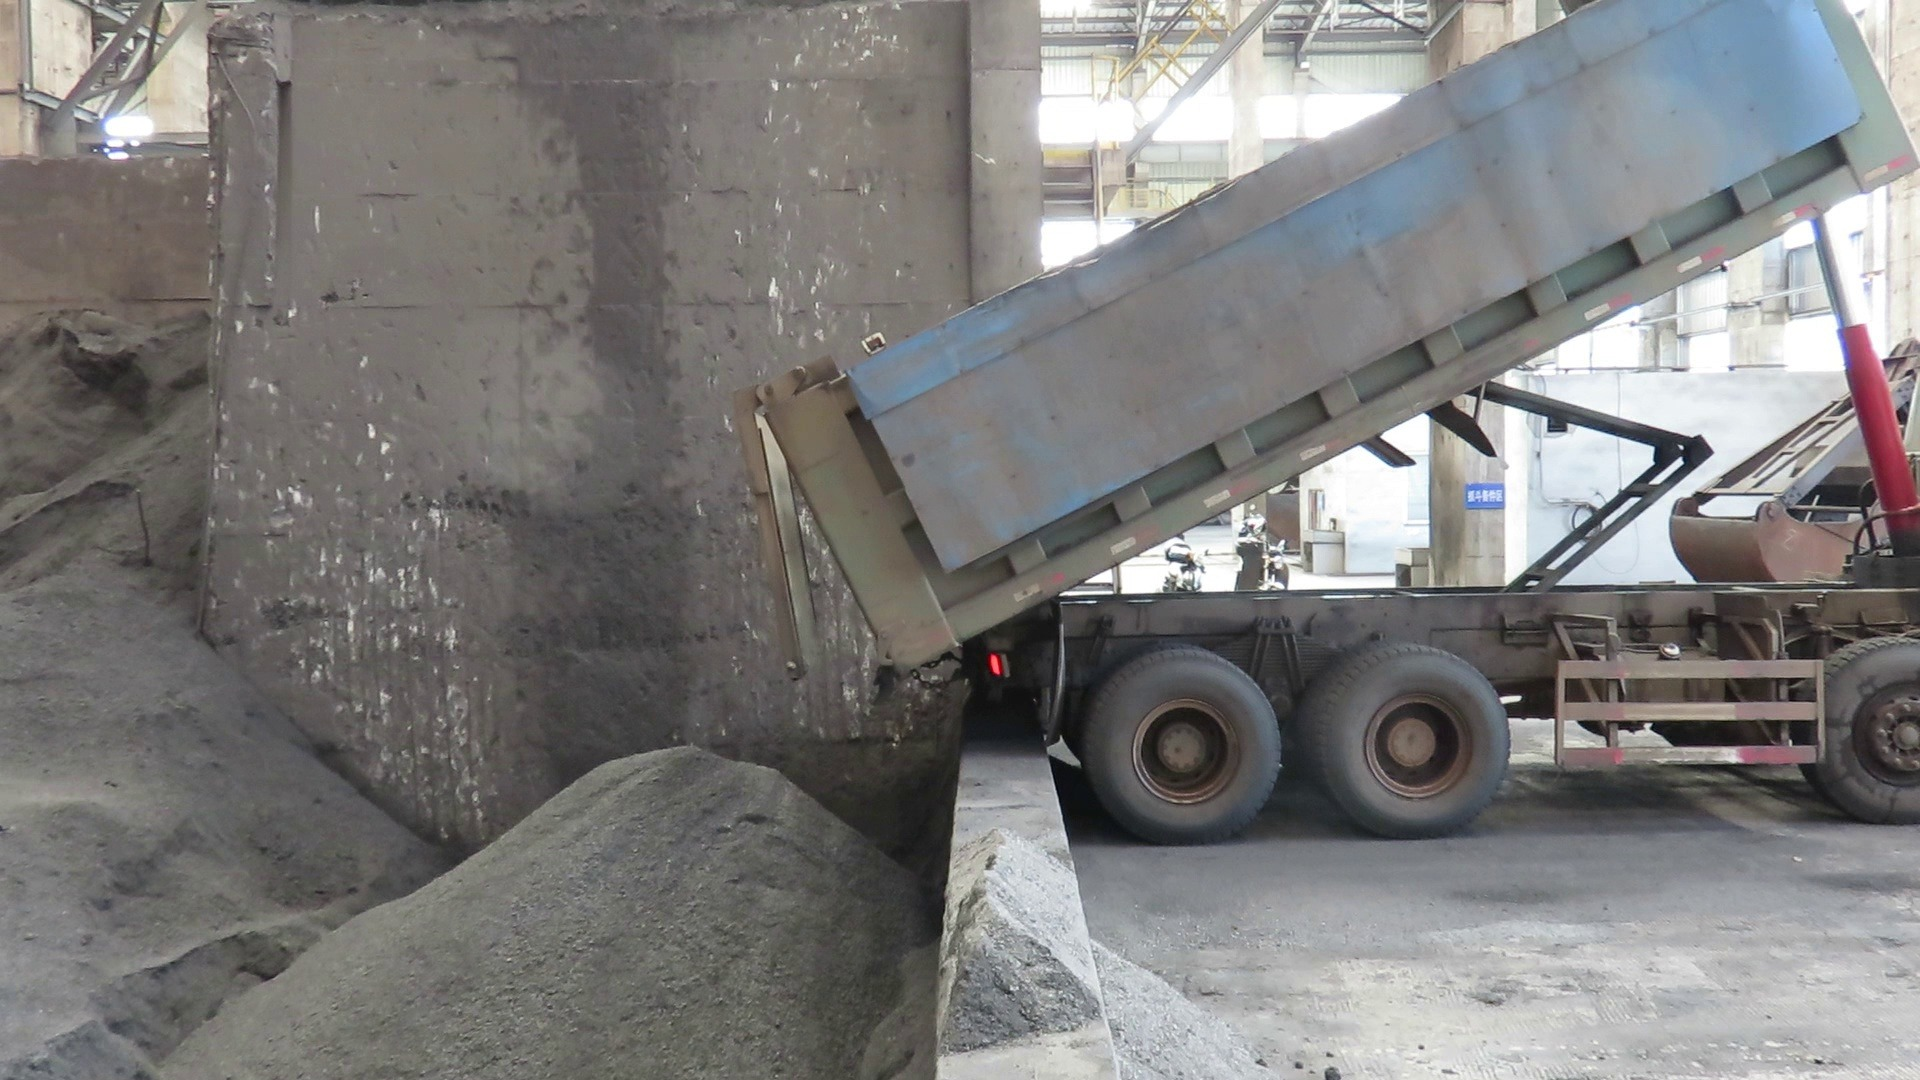truck: (738, 0, 1920, 847)
